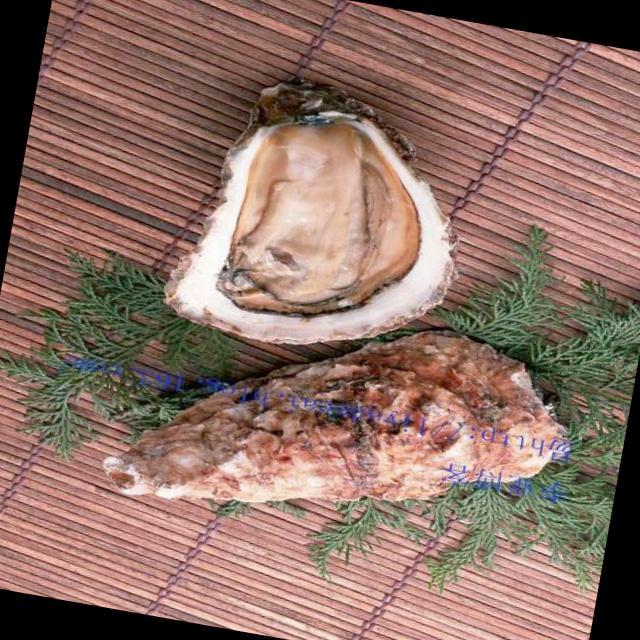Oyster-Closed: (104, 332, 569, 502)
Oyster-Open: (166, 82, 454, 344)
